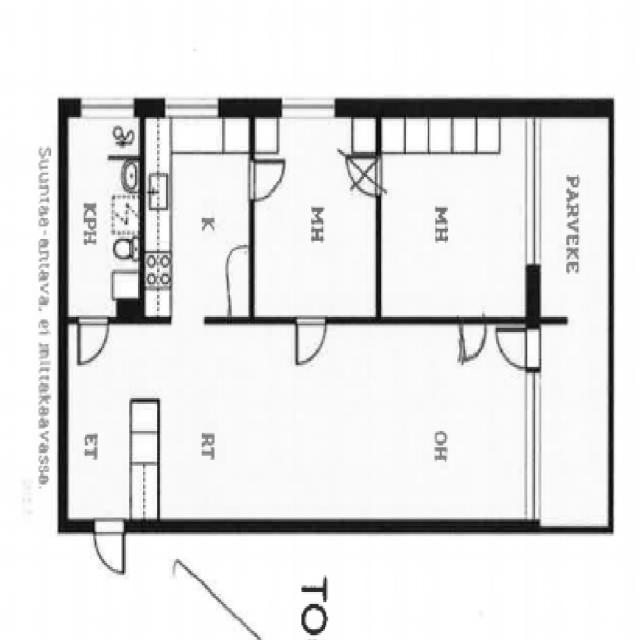door: (92, 518, 124, 572), (496, 330, 540, 369), (250, 159, 286, 201), (295, 317, 326, 365), (79, 317, 108, 364), (459, 317, 485, 359)
